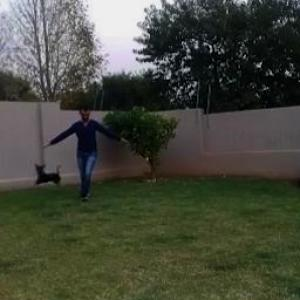land: (54, 95, 144, 201)
